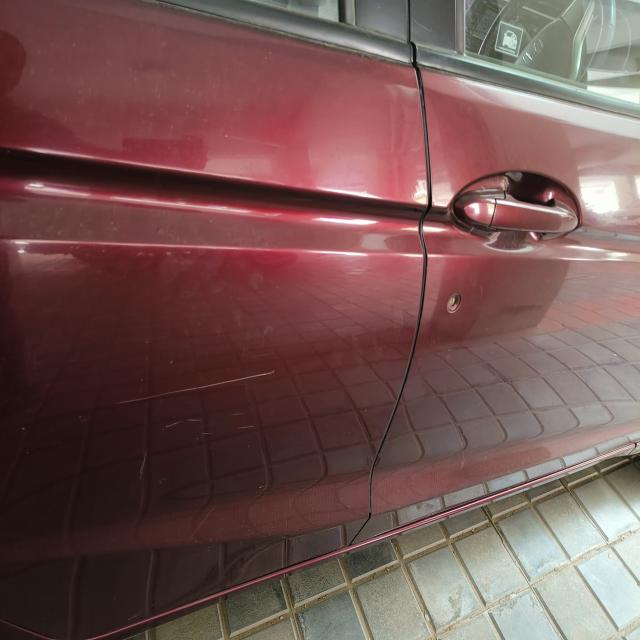scratch: (134, 404, 268, 494), (110, 362, 288, 413)
